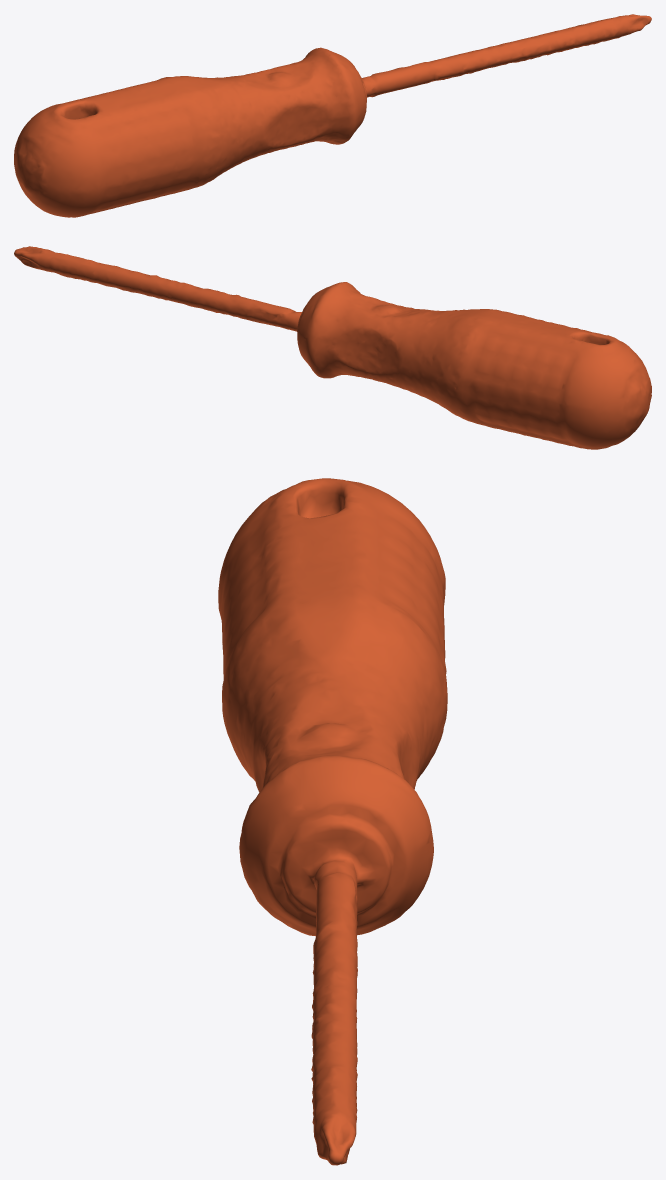
3 renders of one model, top to bottom at view 1: azimuth 30°, elevation 25°; view 2: azimuth 150°, elevation 25°; view 3: azimuth 270°, elevation 25°, orthographic. The views are drawn at different scales.
Size of the model in its own units: 0.2162 by 0.0344 by 0.0341.
